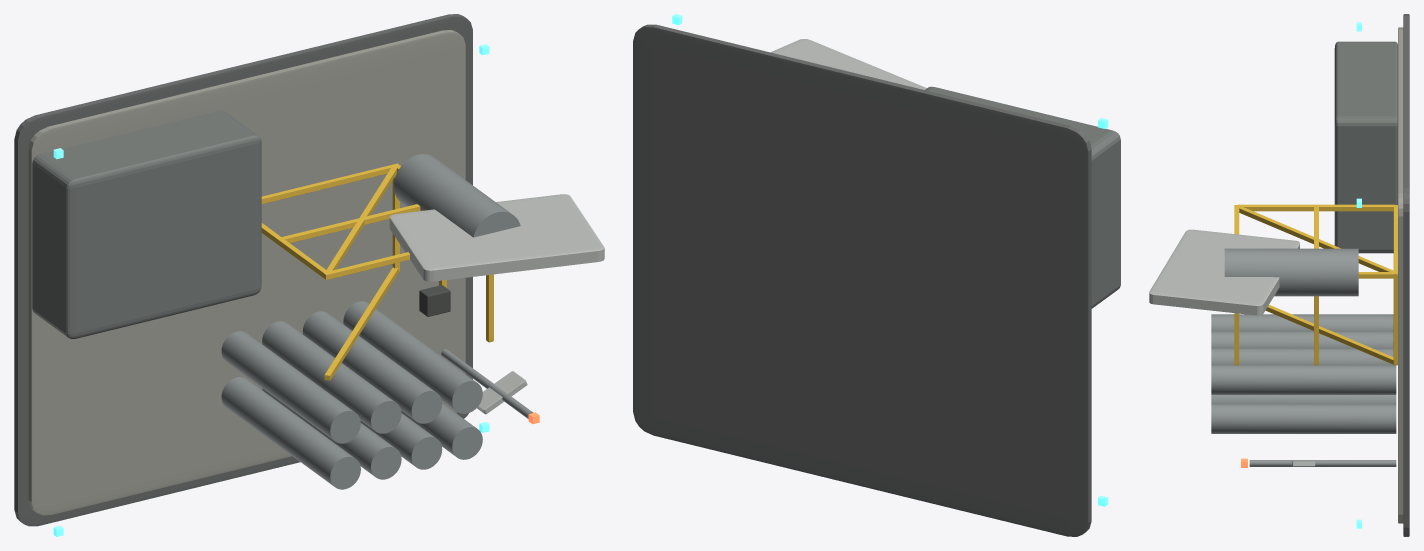
The model's file is b-34-abm-battery-lod2.glb.
3 renders of one model, left to right at view 1: azimuth 30°, elevation 25°; view 2: azimuth 150°, elevation 25°; view 3: azimuth 270°, elevation 25°, orthographic. The views are drawn at different scales.
Parts seen in each view (by area): view 1: foundation_inner_pad, bunker_main, foundation, primary_tracking_radar, missile_01_tube, missile_05_tube, radar_pedestal, missile_06_tube, missile_08_tube, missile_07_tube, missile_02_tube, missile_03_tube (+10 smaller); view 2: foundation, bunker_main, primary_tracking_radar; view 3: bunker_main, primary_tracking_radar, missile_04_tube, missile_08_tube, radar_pedestal, foundation, foundation_inner_pad, missile_05_tube, missile_07_tube, missile_06_tube, missile_03_tube, reload_crane_column_w_n (+6 smaller).
Part boxes in pixels (x1,y1,x2,y2): foundation_inner_pad: [28, 30, 465, 515]; bunker_main: [32, 110, 261, 339]; foundation: [14, 14, 472, 526]; primary_tracking_radar: [389, 194, 604, 281]; missile_01_tube: [221, 377, 360, 489]; missile_05_tube: [221, 331, 360, 443]; radar_pedestal: [394, 154, 520, 237]; missile_06_tube: [262, 321, 401, 433]; missile_08_tube: [343, 301, 482, 413]; missile_07_tube: [302, 311, 442, 423]; missile_02_tube: [262, 388, 401, 479]; missile_03_tube: [360, 413, 442, 469]; foundation: [633, 24, 1091, 536]; bunker_main: [925, 86, 1120, 308]; primary_tracking_radar: [771, 39, 926, 89]; bunker_main: [1334, 41, 1397, 253]; primary_tracking_radar: [1149, 229, 1299, 315]; missile_04_tube: [1211, 404, 1396, 433]; missile_08_tube: [1211, 365, 1396, 394]; radar_pedestal: [1224, 248, 1358, 296]; foundation: [1403, 14, 1409, 536]; foundation_inner_pad: [1398, 27, 1403, 523]; missile_05_tube: [1211, 314, 1393, 331]; missile_07_tube: [1211, 348, 1393, 364]; missile_06_tube: [1211, 331, 1393, 347]; missile_03_tube: [1211, 395, 1396, 403]; reload_crane_column_w_n: [1238, 204, 1394, 211].
Size of what is drawn, in the model's own units: 14.34 by 12 by 8.16.
